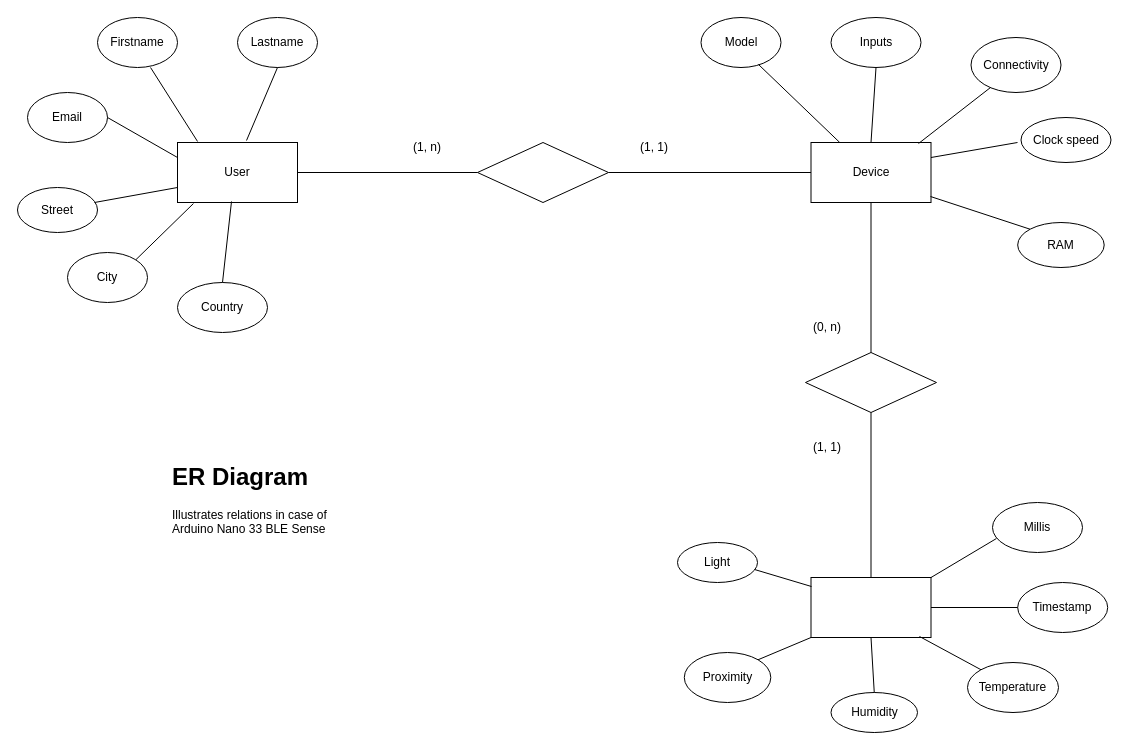
Some shapes in this 1129 by 750 pixel diagram are drawn without their labels. The centre of each missing label's shape, as x and y in pixels:
"Data" belongs at (x=870, y=607).
"measures" belongs at (x=870, y=382).
"uses" belongs at (x=542, y=172).
